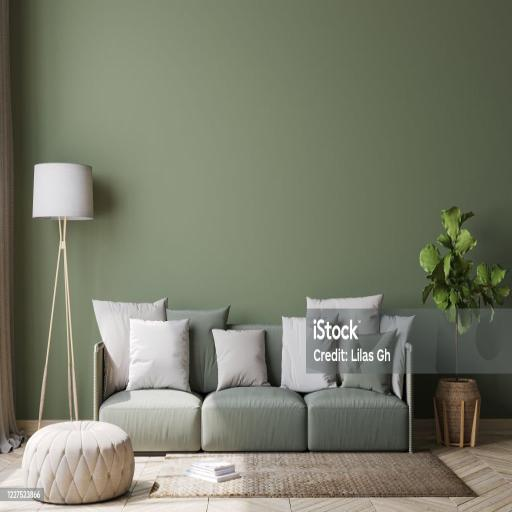back_cushion: (93, 295, 414, 397)
left_arm: (405, 343, 412, 452)
right_arm: (93, 341, 105, 419)
seat_cushion: (100, 387, 412, 451)
stallion-sofa: (93, 294, 414, 449)
